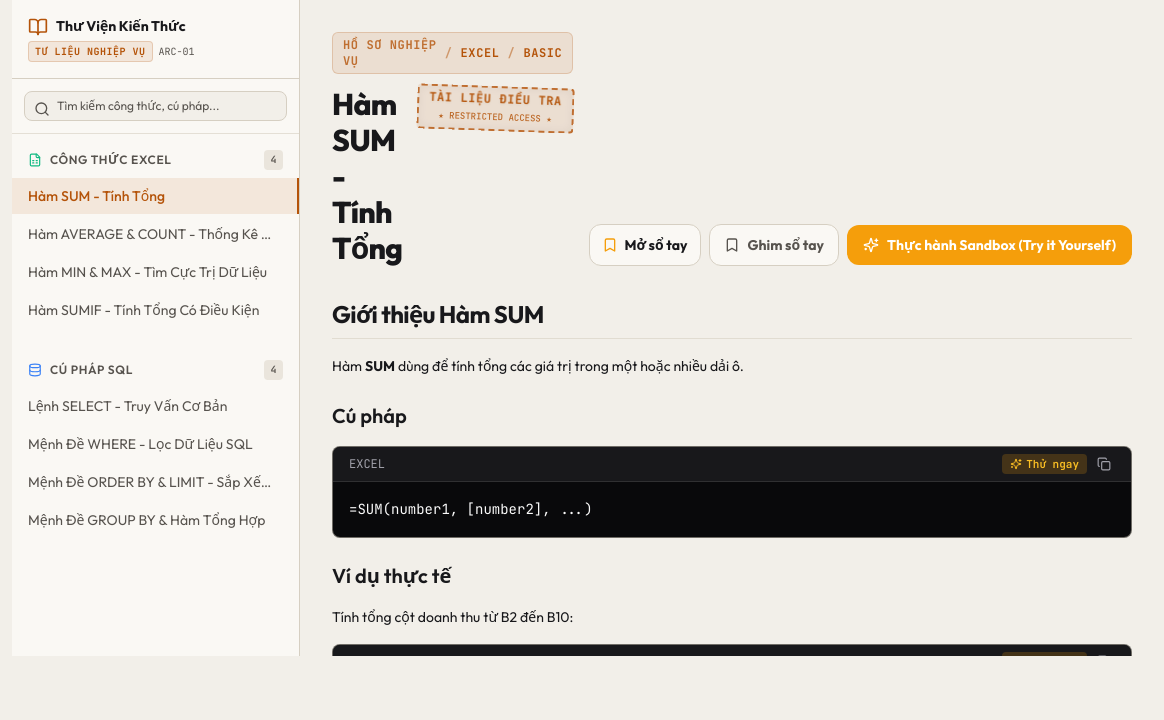
KnowledgeHubPage Component Tests › hỗ trợ tìm kiếm bài học trong sidebar
Expected: the heading "Thư Viện Kiến Thức" is shown, [28,16,194,37]
Type "SUM" into the field with placeholder "Tìm kiếm công thức, cú pháp...".
click(156, 106); type("SUM")  # box [24,91,287,121]
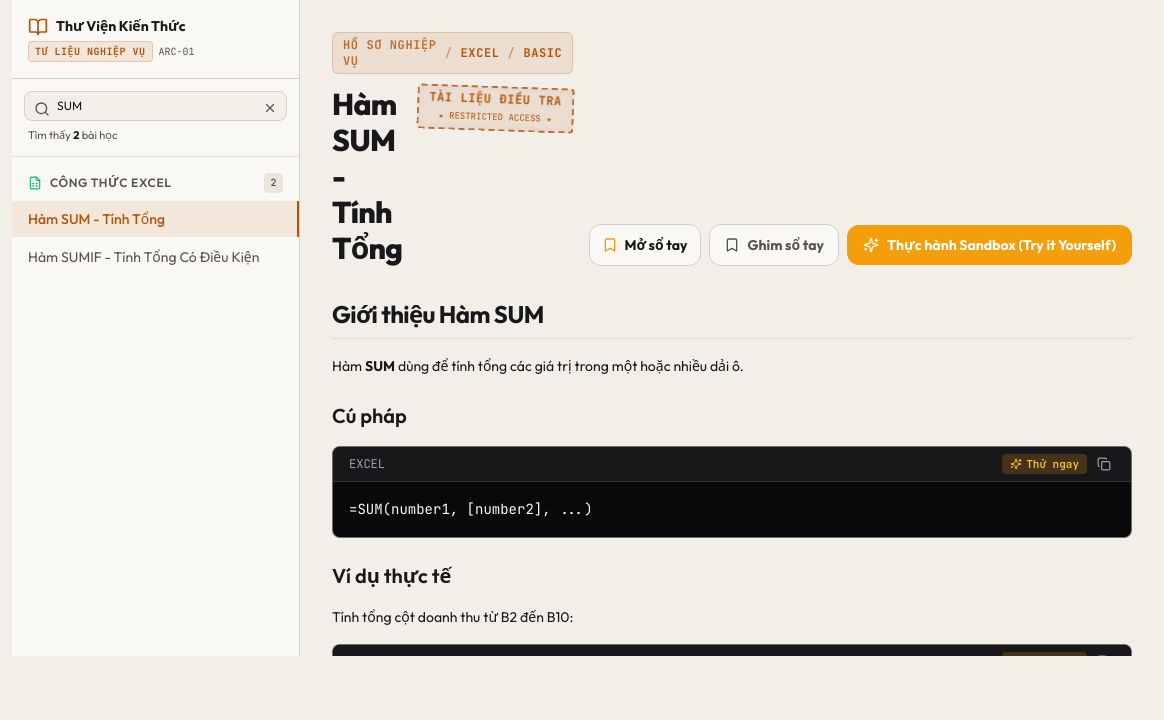
Result: the text "Tìm thấy 2 bài học" is shown at [28,128,117,142]
